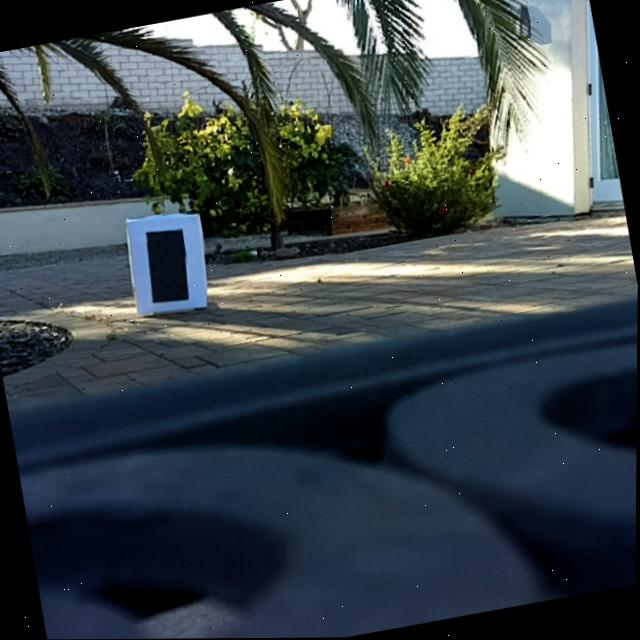led: (142, 224, 194, 308)
